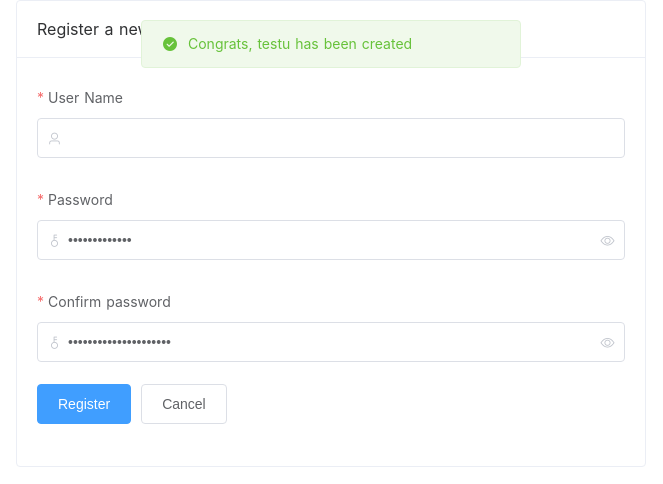
it: Auth register page › Auth Register Error › Register button works, validation errors, username is required
The width and height of the screenshot is (663, 484).
Step 1. Click the button "Register" → coordinates (84, 404), box [37,384,131,424]
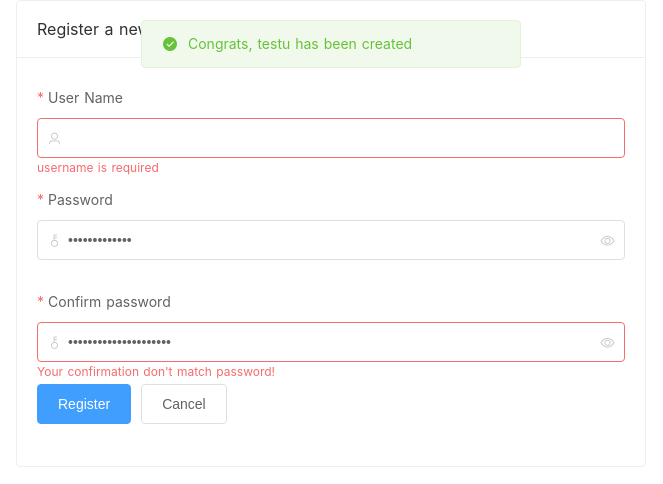
expect the text "username is required" is shown: met, box [37,158,159,174]
